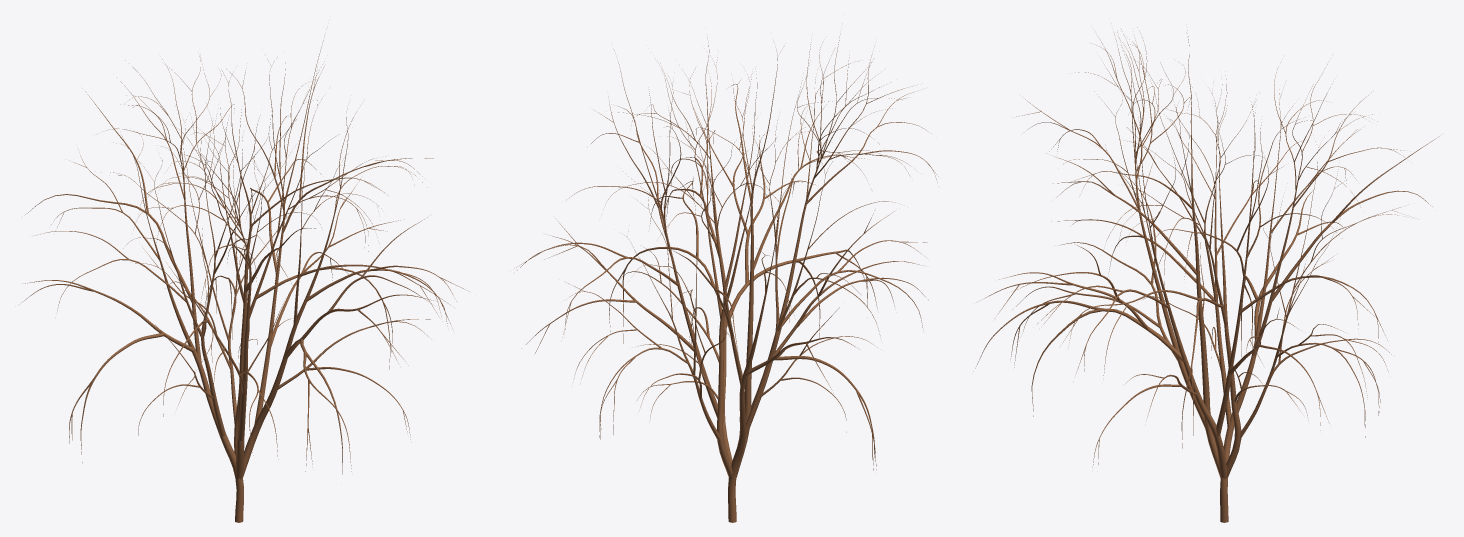
The model's file is tree-autumn-trunk-misc-005-049.glb.
3 renders of one model, left to right at view 1: azimuth 30°, elevation 25°; view 2: azimuth 150°, elevation 25°; view 3: azimuth 270°, elevation 25°, orthographic.
Parts seen in each view (by area): view 1: tree.005_422; view 2: tree.005_422; view 3: tree.005_422.
Boxes of the visible parts, bbox=[...] form: tree.005_422: bbox=[19, 35, 469, 522]; tree.005_422: bbox=[514, 33, 938, 522]; tree.005_422: bbox=[973, 27, 1439, 522].
Size of the model in its own units: 1.41 by 1.82 by 1.63.
